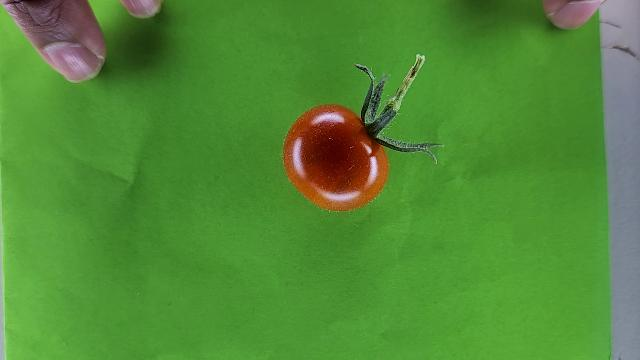Fully Grown: (281, 102, 392, 212)
